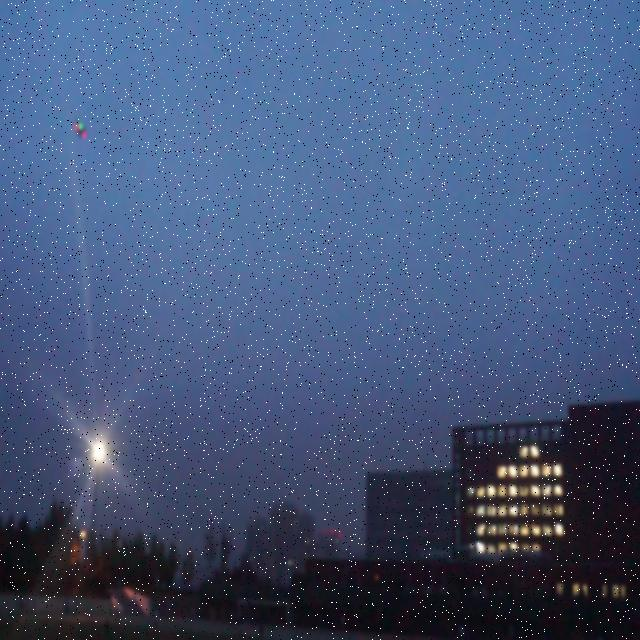UAV: (74, 122, 87, 140)
